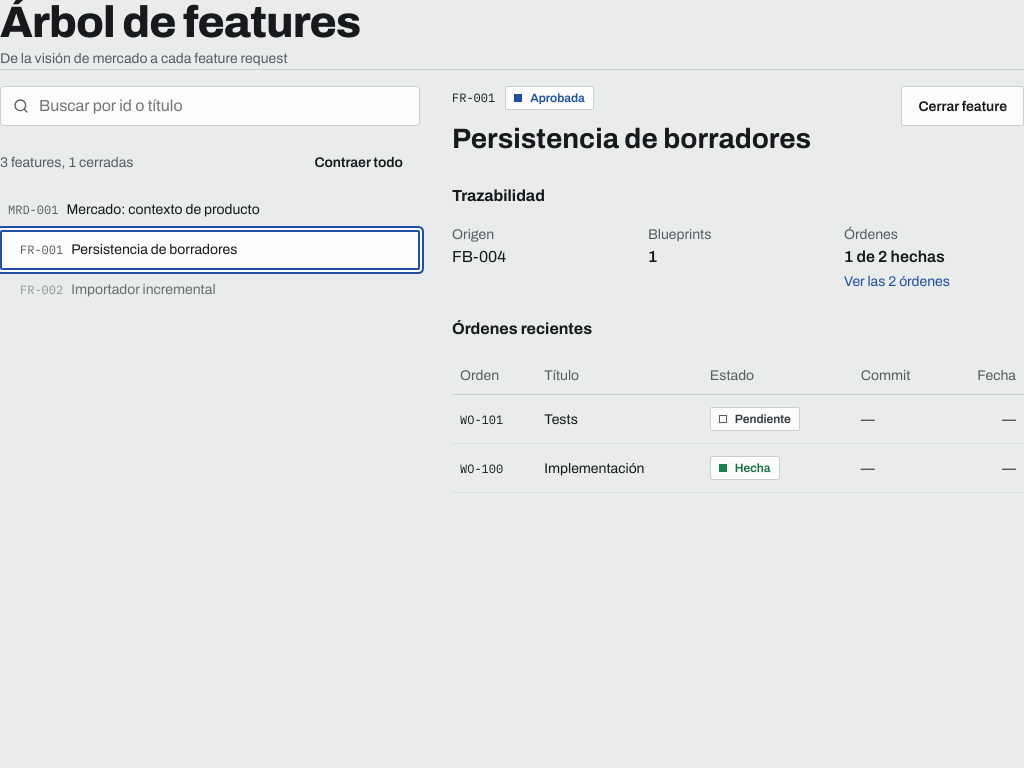
ProjectGraph (árbol de features) › disables the confirm button until every closure check passes
Click the button "Cerrar feature" at (963, 106), box x1=902 y1=86 x2=1023 y2=126
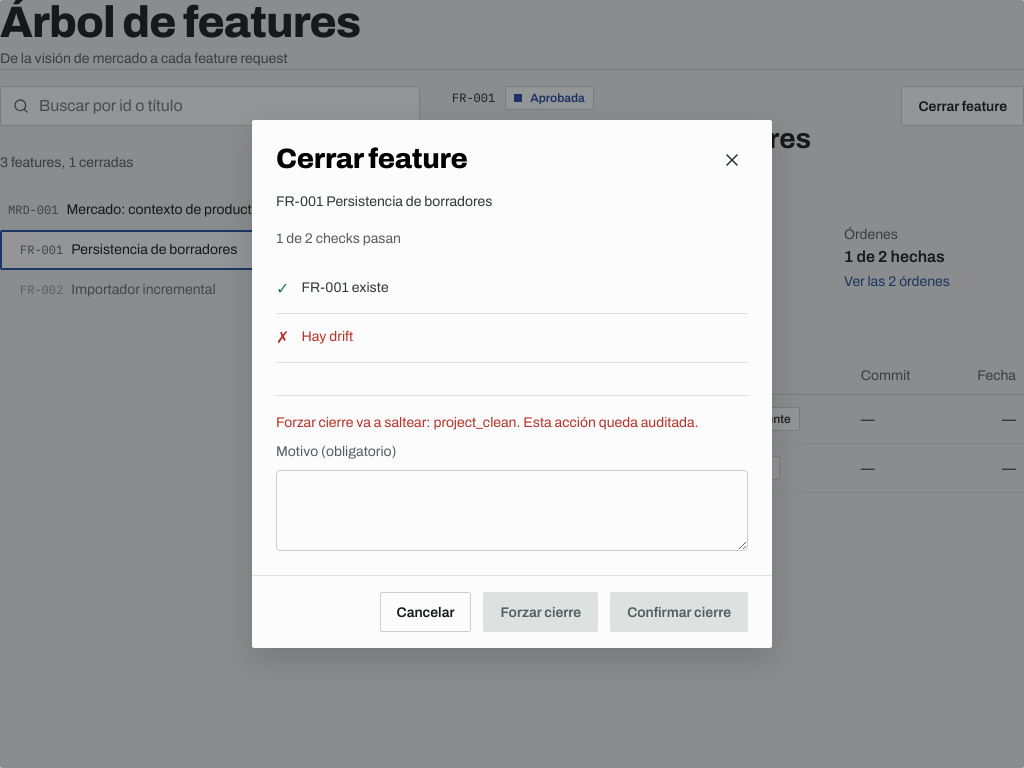
Check: the text "Hay drift" is shown, box x1=301 y1=326 x2=353 y2=350
Check: the button "Confirmar cierre" is disabled, box x1=610 y1=592 x2=748 y2=632
